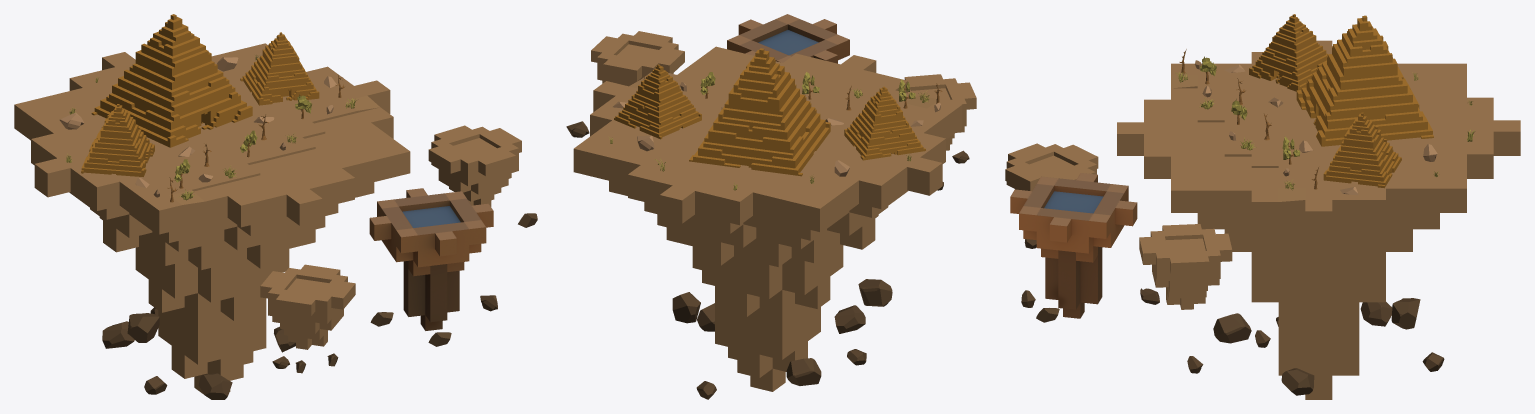
The model's file is Piramides Flotantes v2.fbx.
The picture shows the model from 3 angles, left to right: view 1: azimuth 30°, elevation 25°; view 2: azimuth 150°, elevation 25°; view 3: azimuth 270°, elevation 25°; orthographic projection. The views are drawn at different scales.
Parts seen in each view (by area): view 1: Piramide.003; view 2: Piramide.003; view 3: Piramide.003.
Part boxes in pixels (x1=…): Piramide.003: x1=14, y1=14, x2=537, y2=399; Piramide.003: x1=566, y1=14, x2=976, y2=399; Piramide.003: x1=1005, y1=14, x2=1520, y2=399.
Size of the model in its own units: 1115 by 884 by 1118.
